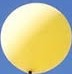Balloon: (1, 1, 71, 72)
